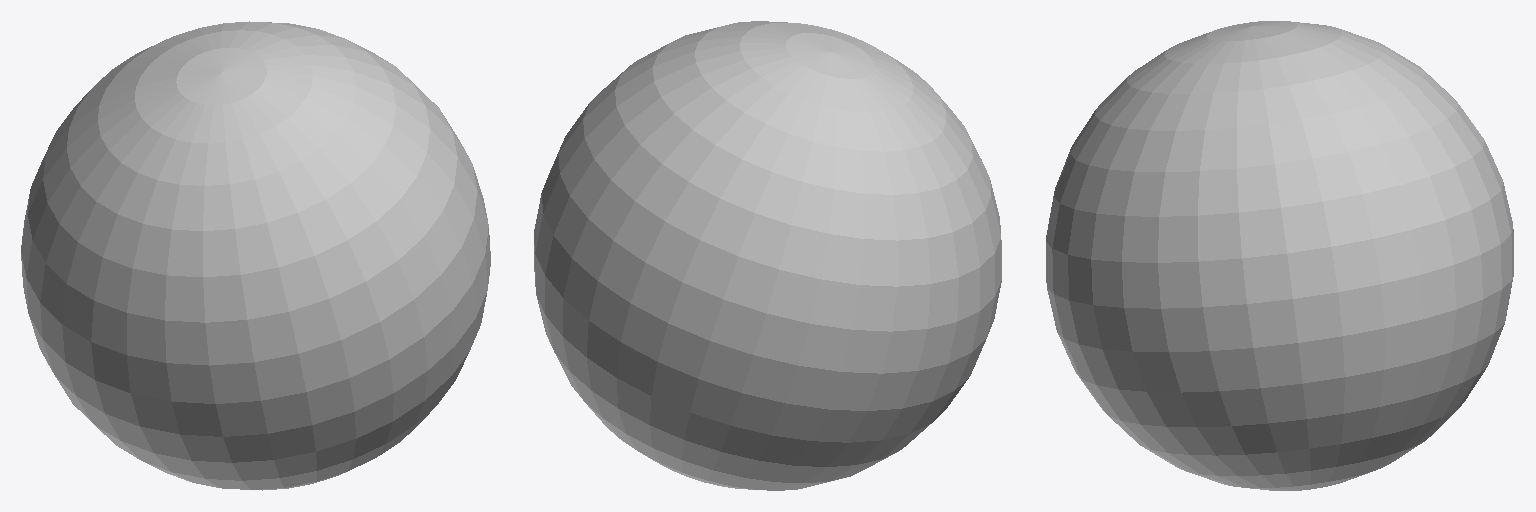
File: blue_ghost_test.obj
3 views of the same model, side by side, from view 1: azimuth 30°, elevation 25°; view 2: azimuth 150°, elevation 25°; view 3: azimuth 270°, elevation 25° (orthographic).
Visible parts, largest first — view 1: Sphere02; view 2: Sphere02; view 3: Sphere02.
Part boxes in pixels (left/top/right/bottom): Sphere02: left=21, top=21, right=490, bottom=490; Sphere02: left=534, top=21, right=1001, bottom=490; Sphere02: left=1046, top=21, right=1513, bottom=490.
Size of the model in its own units: 19.74 by 19.77 by 19.75.